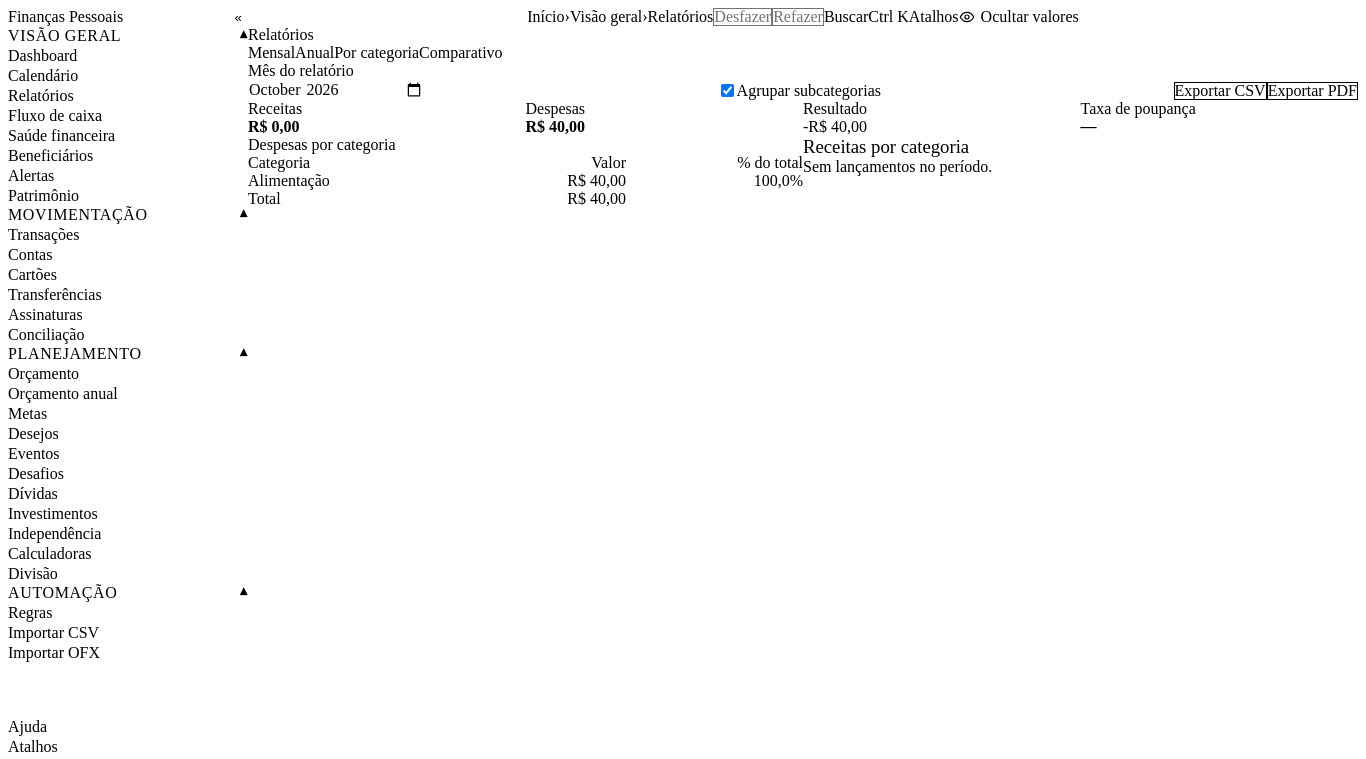
Test case: subcategorias: interface › critério 10: relatório mostra a opção de agrupar quando há subcategorias
The width and height of the screenshot is (1366, 759).
Expected: the text "Alimentação › Restaurantes" is not shown
What coordinates should you click on to do the following:
click the checkbox labelled "Agrupar subcategorias"
I would click on:
 (727, 90)
Its box is 721,84 -> 734,97.
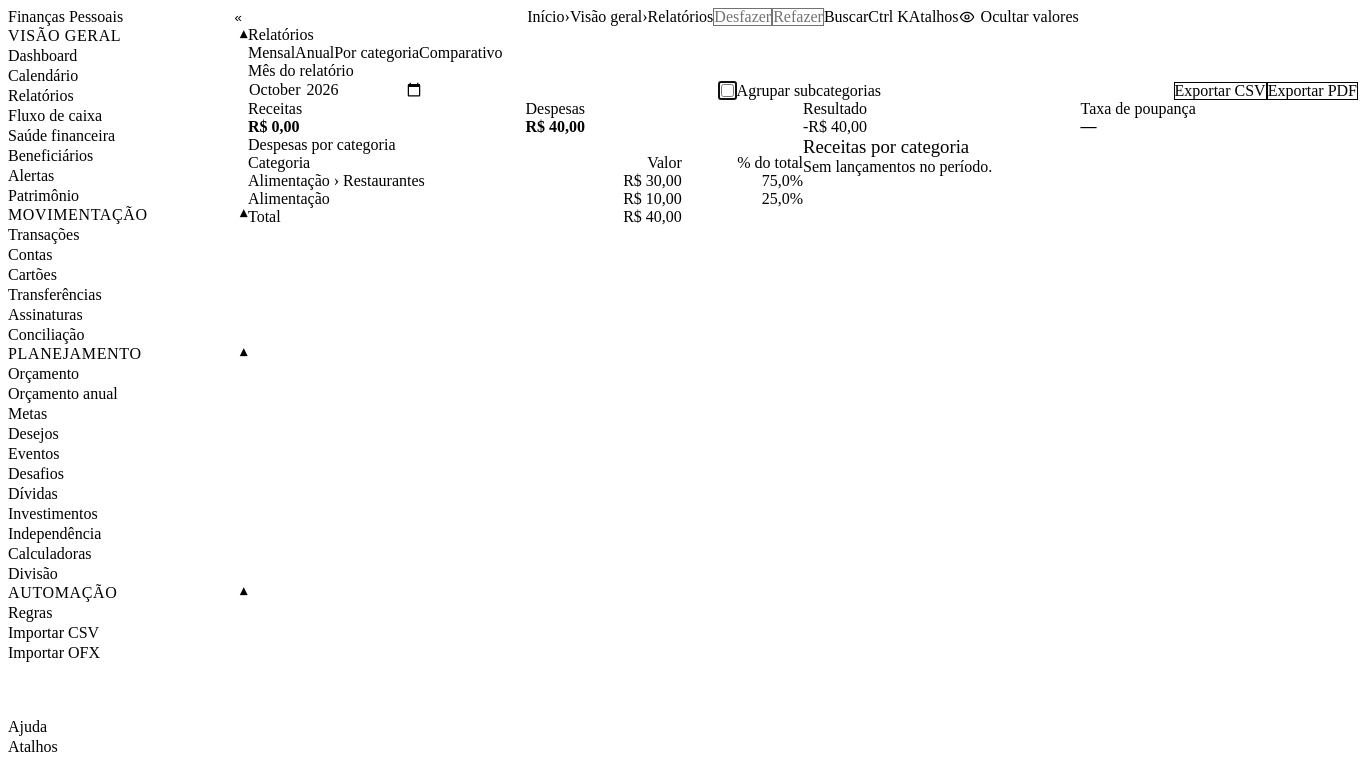
Expected: the column heading "Alimentação › Restaurantes" is shown, 248,172 -> 574,190
